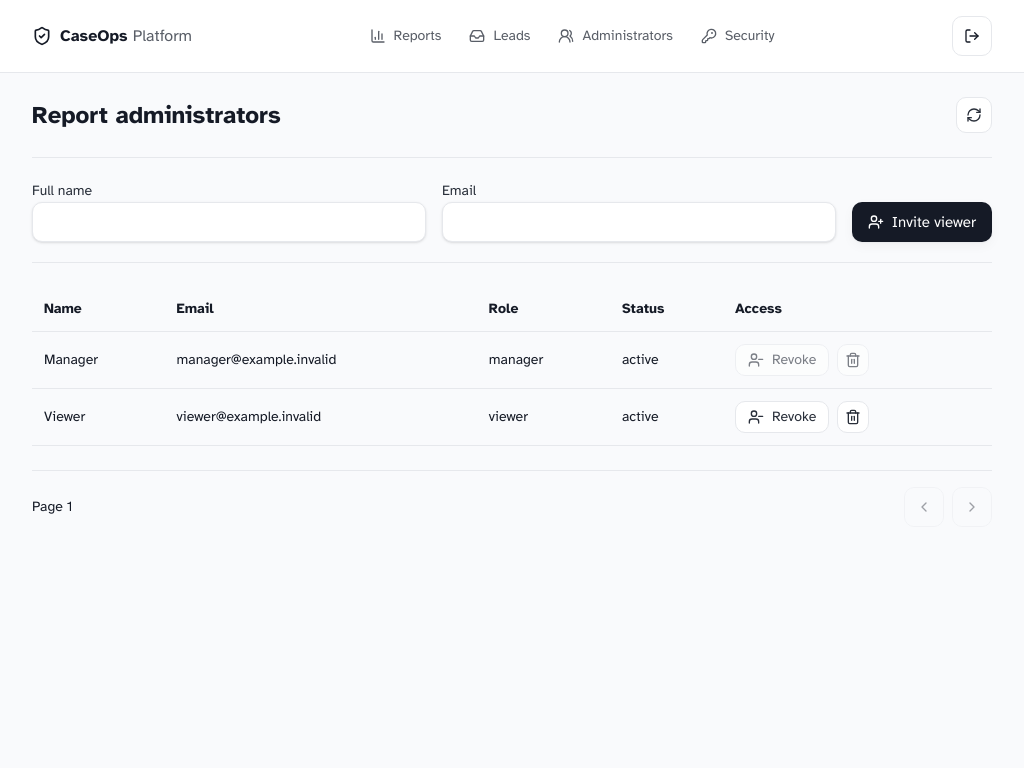
it: explicit report administrator management › invites only explicit email/name and qualifies transport acceptance
This screenshot has width=1024, height=768.
Expected: the text "viewer@example.invalid" is shown, [165,388,477,446]
Type "New viewer" into the field labelled "Full name" at {"x": 229, "y": 222}, box [32,202,426,242]
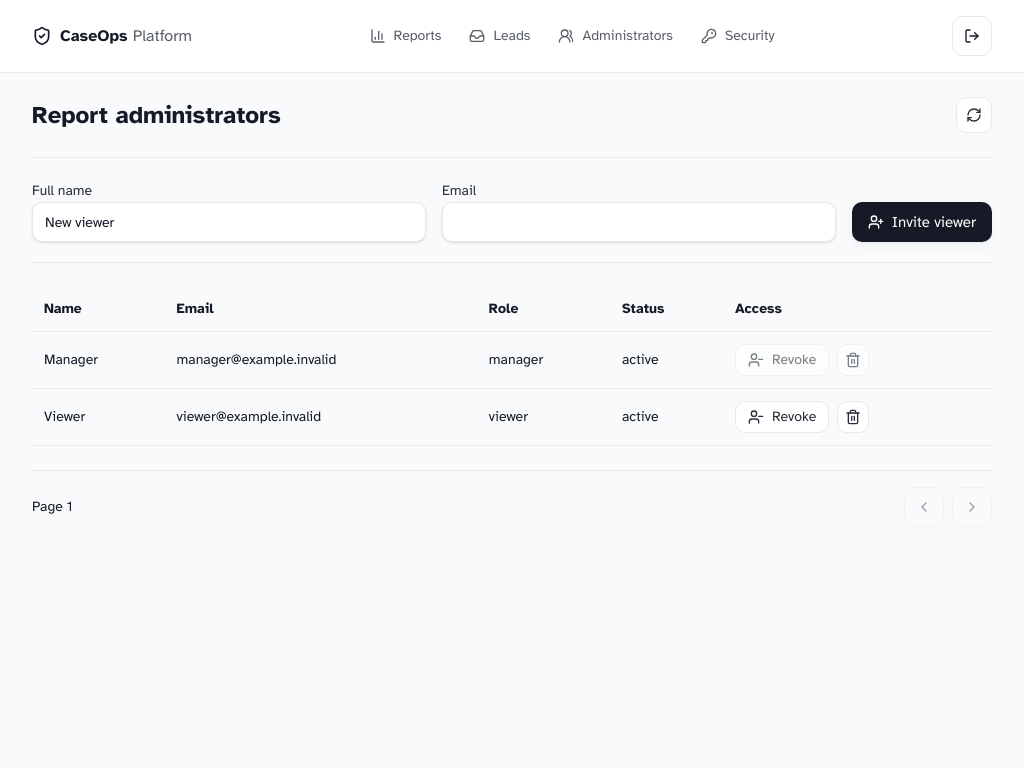
Type "new@example.invalid" into the field labelled "Email" at {"x": 639, "y": 222}, box [442,202,836,242]
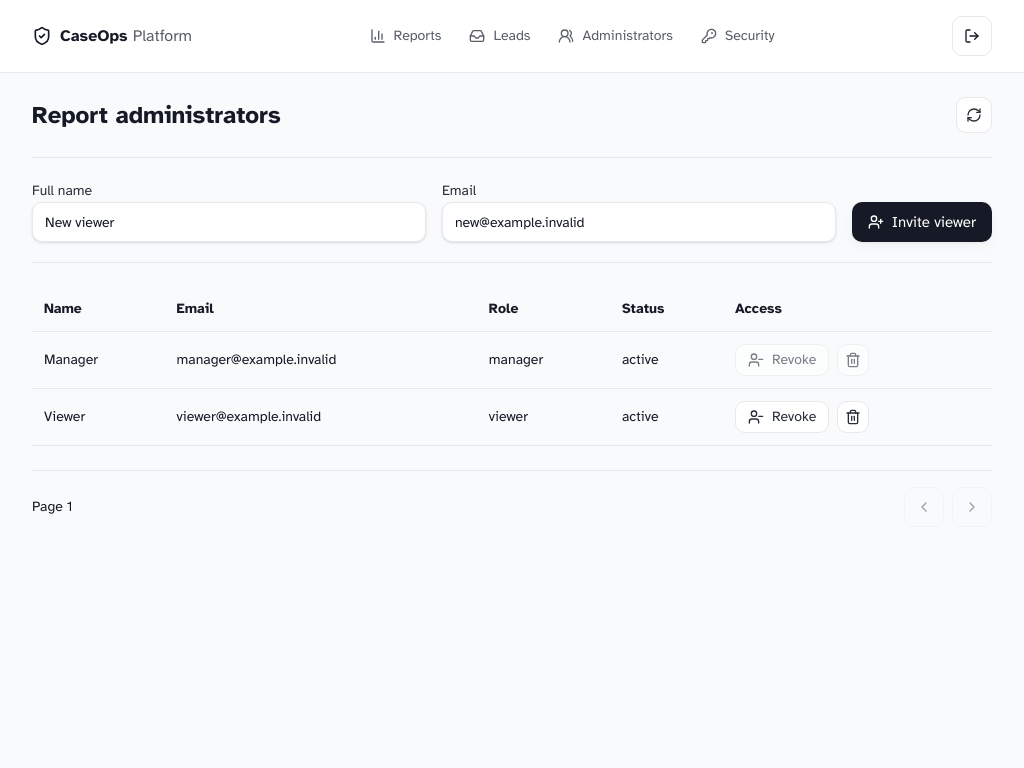
Submit the form named "Invite report administrator", box [32,157,992,263]
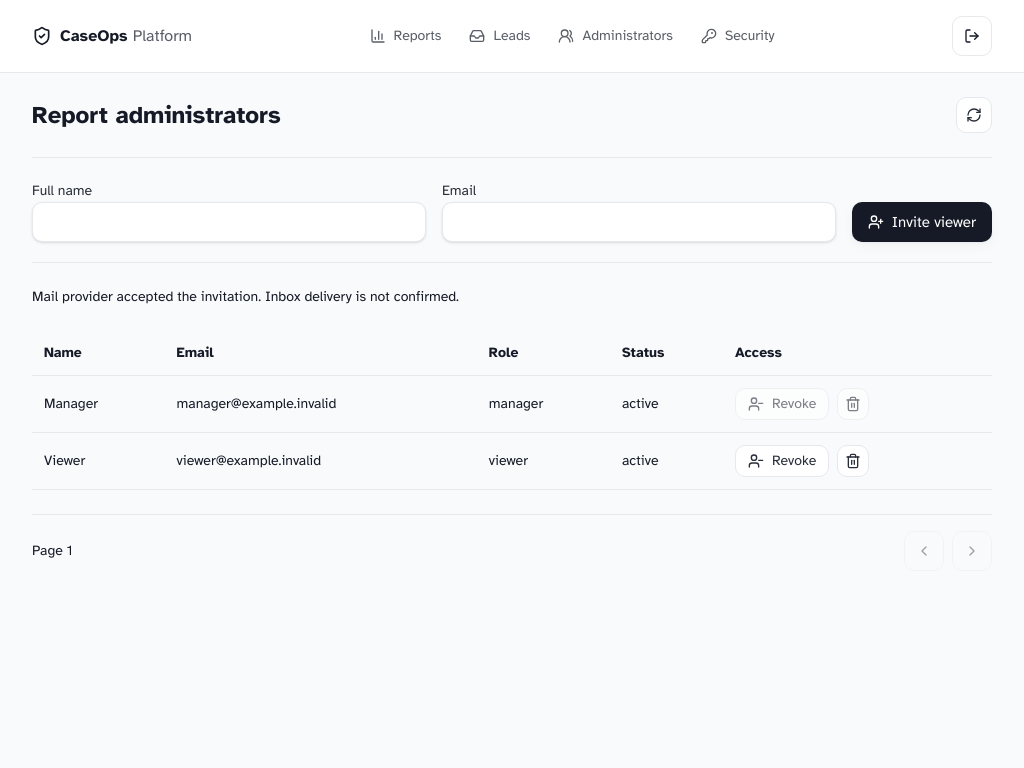
Expected: the message shows "Inbox delivery is not confirmed", [32,288,459,305]
